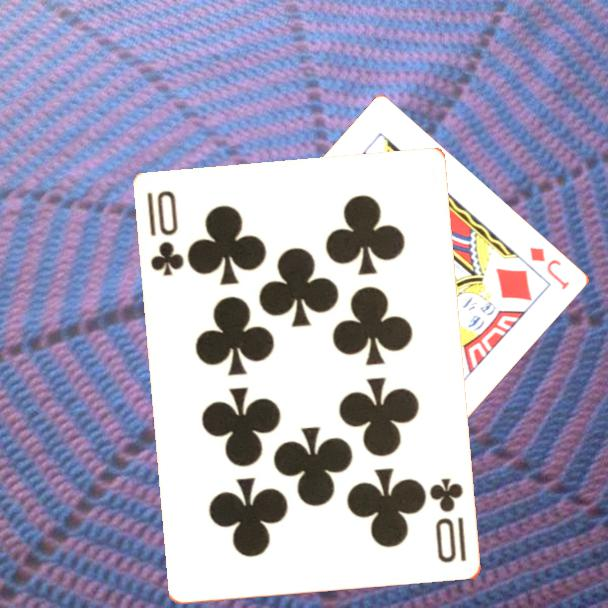c10: (427, 475, 470, 567), (144, 188, 187, 280)
d11: (526, 243, 573, 293)
